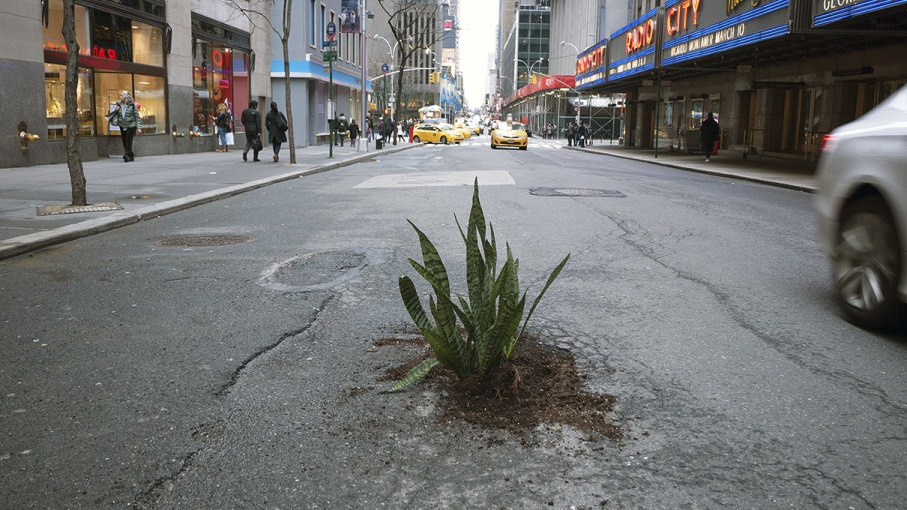pothole: (239, 227, 393, 307)
